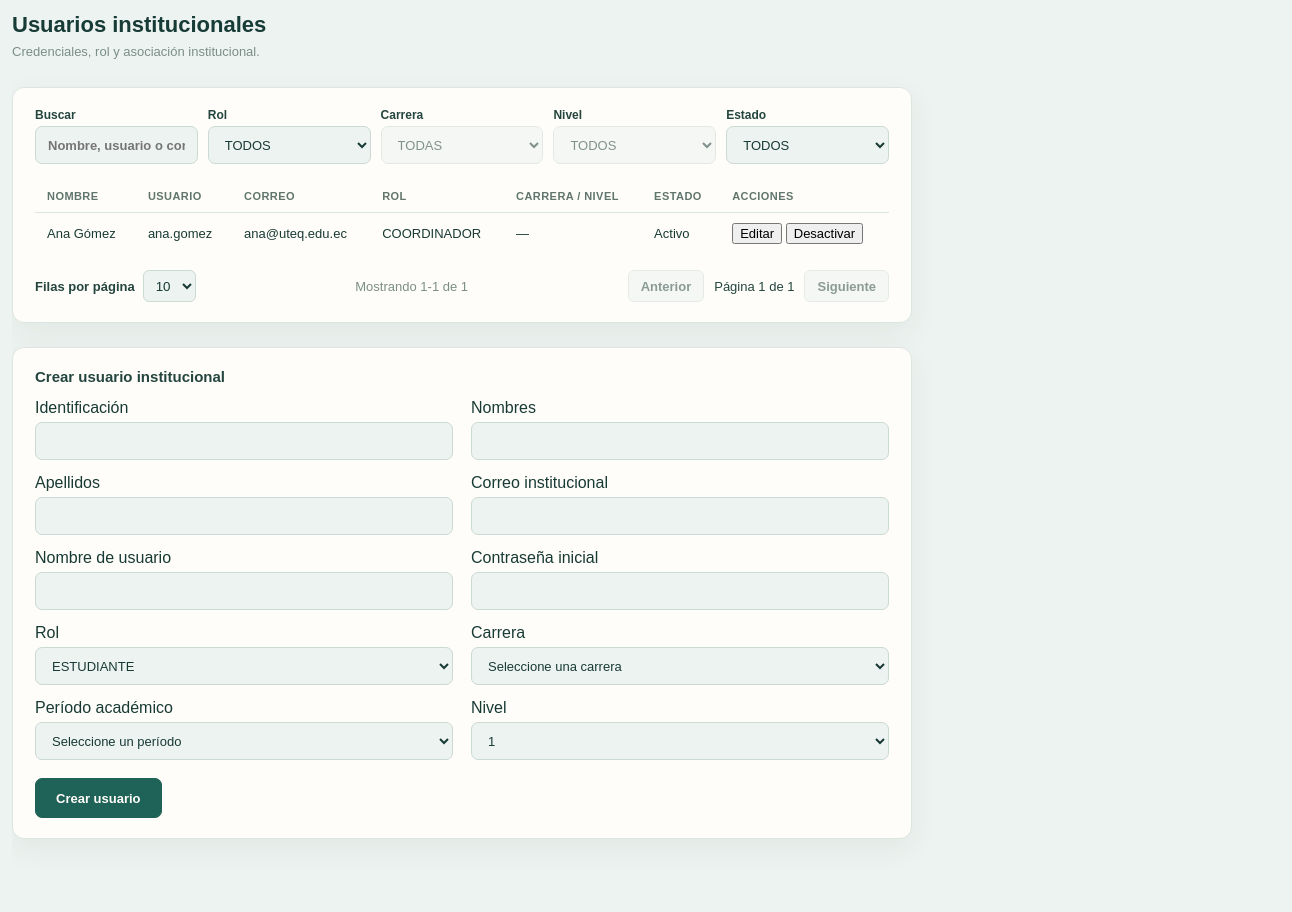
Test: UsuariosPage administrativa › muestra el fallo atómico si backend rechaza la desactivación
Click the button "Desactivar". click: point(824, 234)
box: x1=786 y1=223 x2=863 y2=244
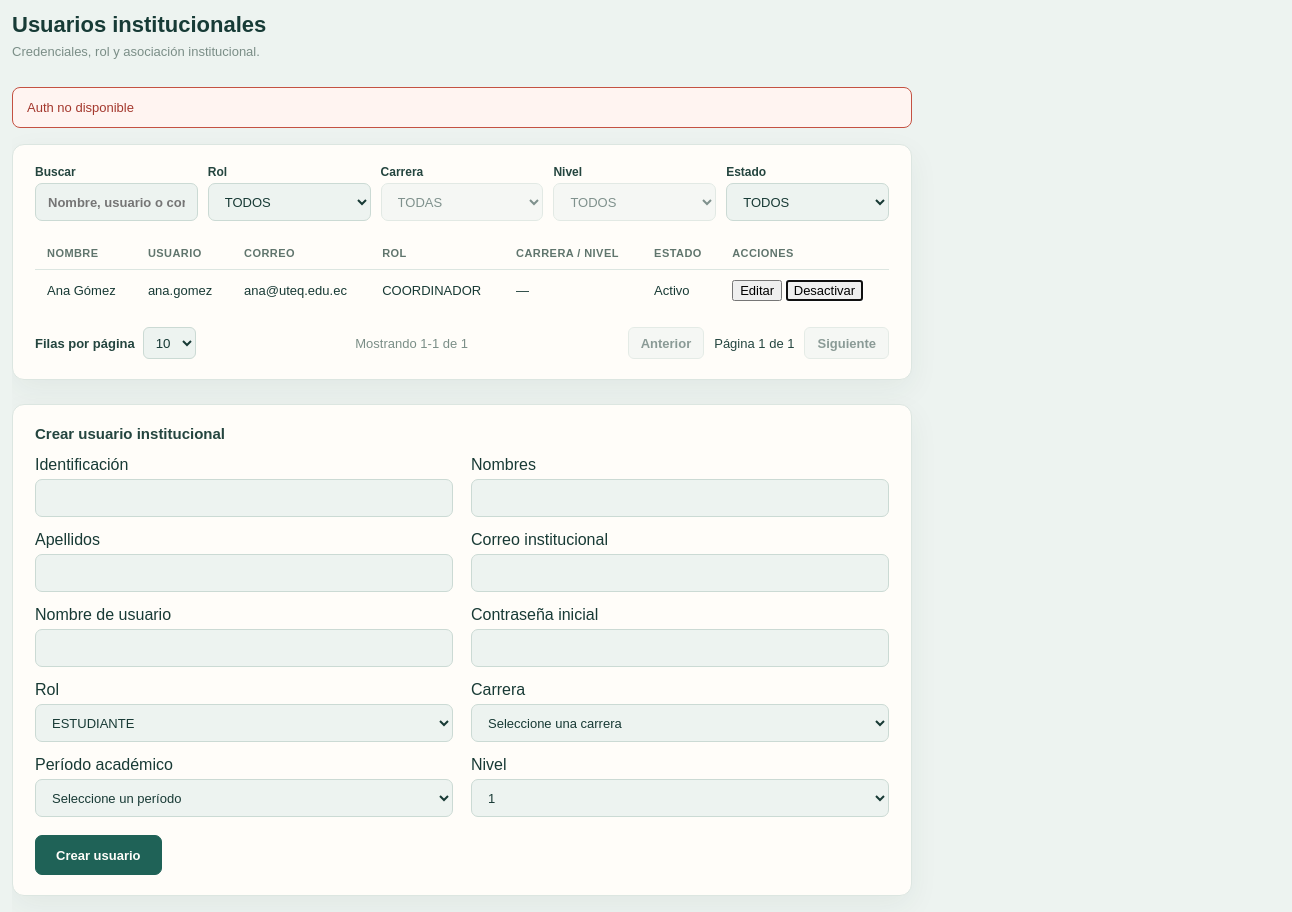
Check: the message reads "Auth no disponible", box x1=27 y1=100 x2=134 y2=115
